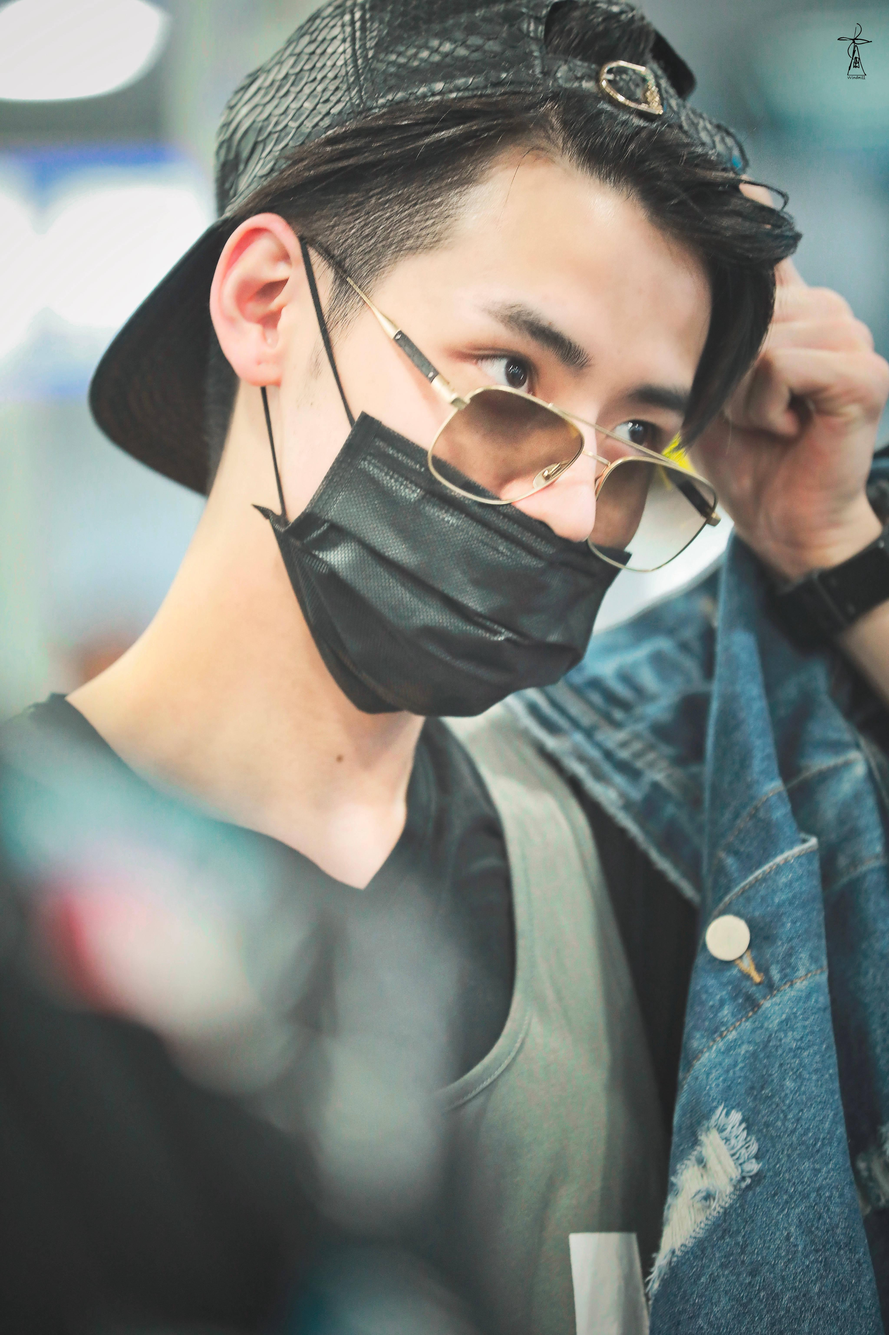WRONG: (307, 245, 684, 720)
